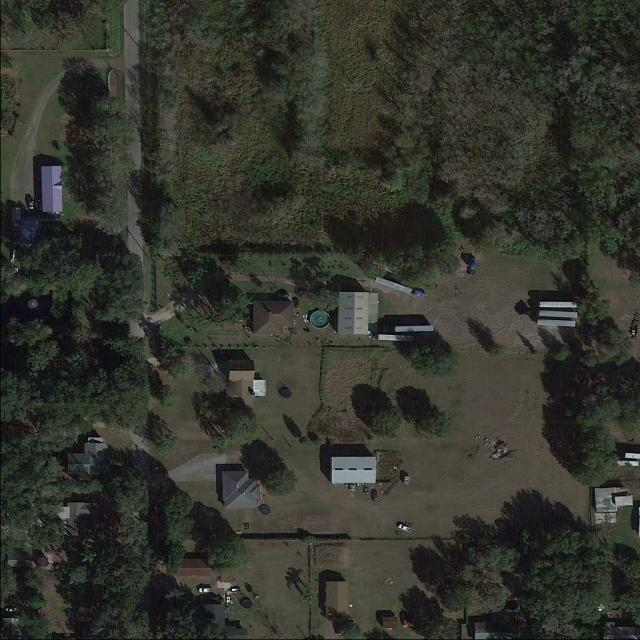large-vehicle: (374, 276, 428, 299), (518, 308, 579, 318), (468, 257, 477, 275)
small-vehicle: (272, 291, 289, 301), (398, 523, 412, 533), (402, 614, 409, 627), (371, 489, 378, 501), (199, 588, 213, 593), (28, 198, 34, 209), (293, 298, 299, 308)
